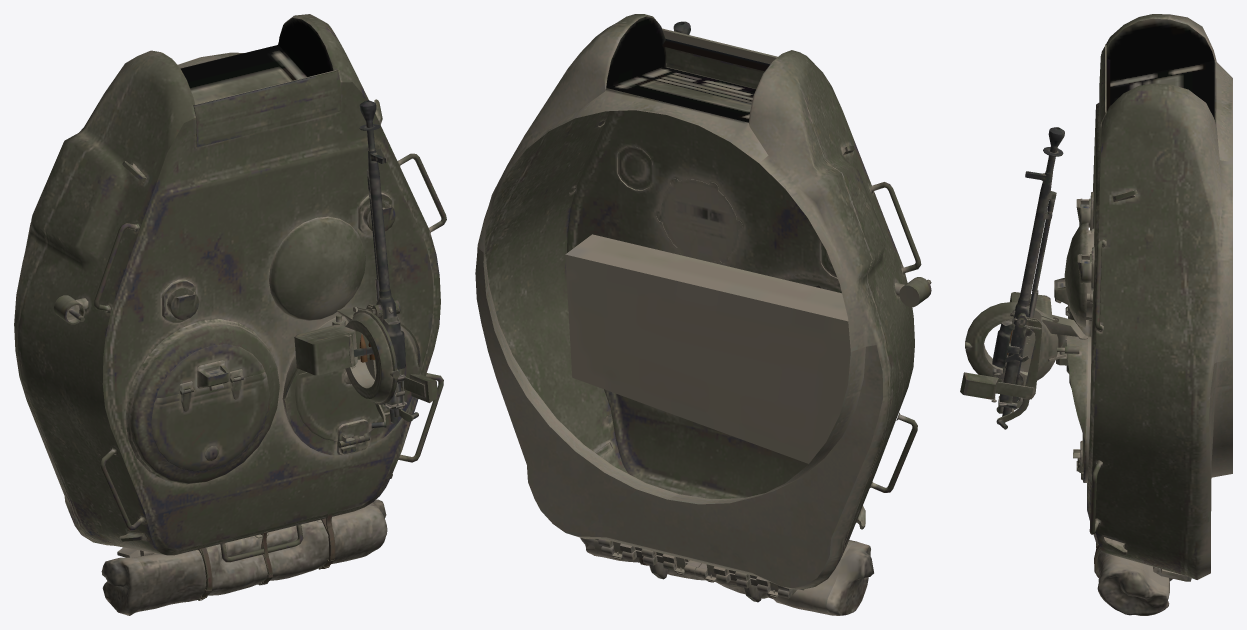
File: Turret_01.glb
The picture shows the model from 3 angles, left to right: view 1: azimuth 30°, elevation 25°; view 2: azimuth 150°, elevation 25°; view 3: azimuth 270°, elevation 25°; orthographic projection. The views are drawn at different scales.
Parts seen in each view (by area): view 1: set_0_group_0; view 2: set_0_group_0; view 3: set_0_group_0.
Boxes of the visible parts, x1,y1,x2,y2 form: set_0_group_0: (14, 14, 446, 615); set_0_group_0: (475, 14, 931, 615); set_0_group_0: (960, 14, 1232, 615).
Size of the model in its own units: 2.22 by 2.85 by 1.36.
Materials: 1 (1 with a texture image).
